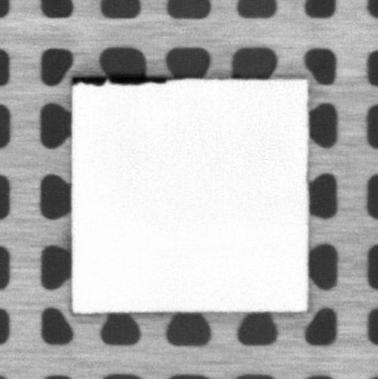DIE_BROKEN: (68, 74, 168, 87)
